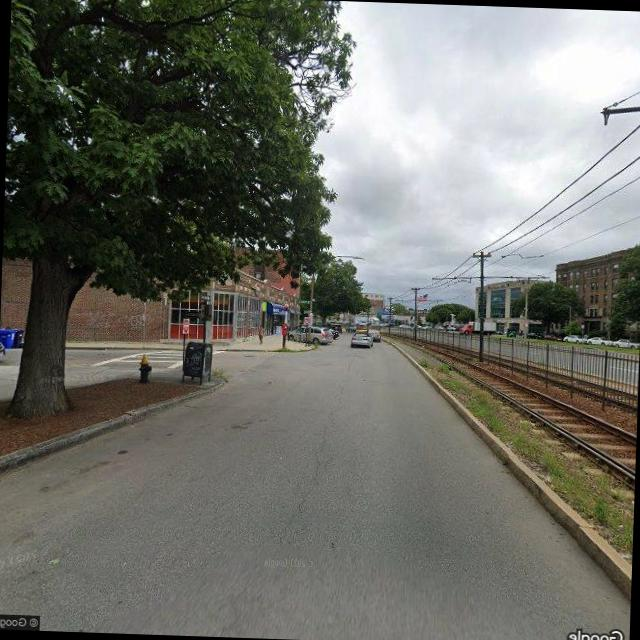pothole: (282, 446, 328, 543)
